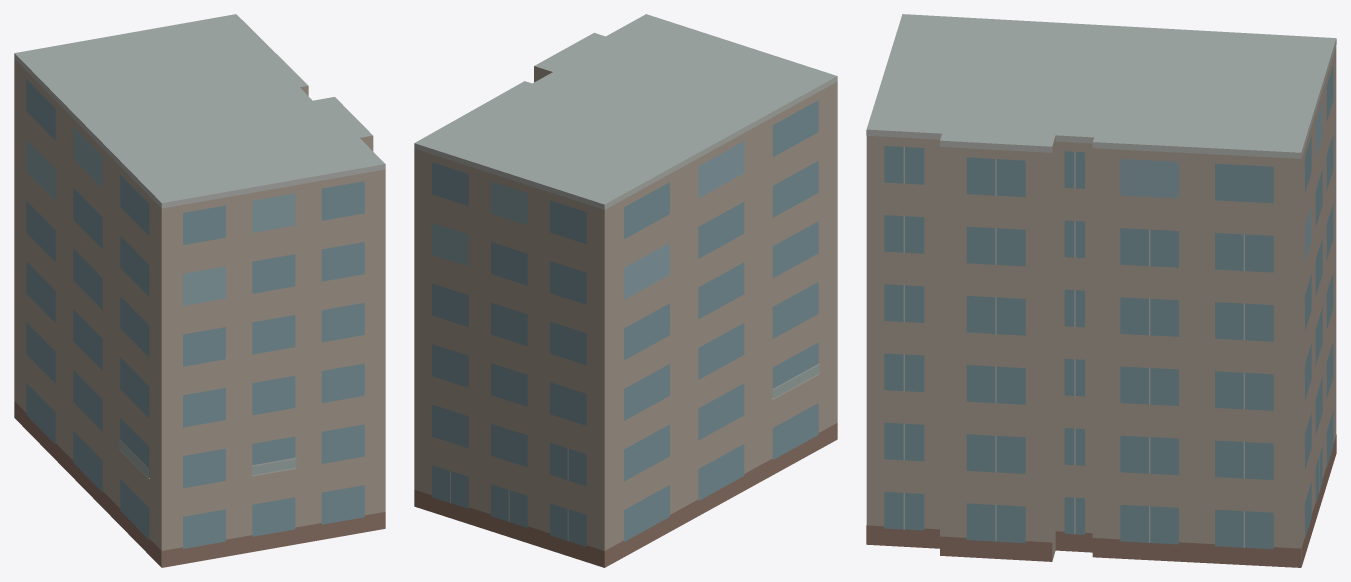
The model's file is survey-upis-32902579.glb.
3 views of the same model, side by side, from view 1: azimuth 30°, elevation 25°; view 2: azimuth 150°, elevation 25°; view 3: azimuth 270°, elevation 25° (orthographic). The views are drawn at different scales.
Visible parts, largest first — view 1: survey-upis-32902579.tmp; view 2: survey-upis-32902579.tmp; view 3: survey-upis-32902579.tmp.
Boxes of the visible parts, <box> form: survey-upis-32902579.tmp: <box>14,14,385,567</box>; survey-upis-32902579.tmp: <box>414,14,837,567</box>; survey-upis-32902579.tmp: <box>866,14,1336,567</box>.
Bounding box in the file's own units: 11.84 × 16.5 × 16.94.
